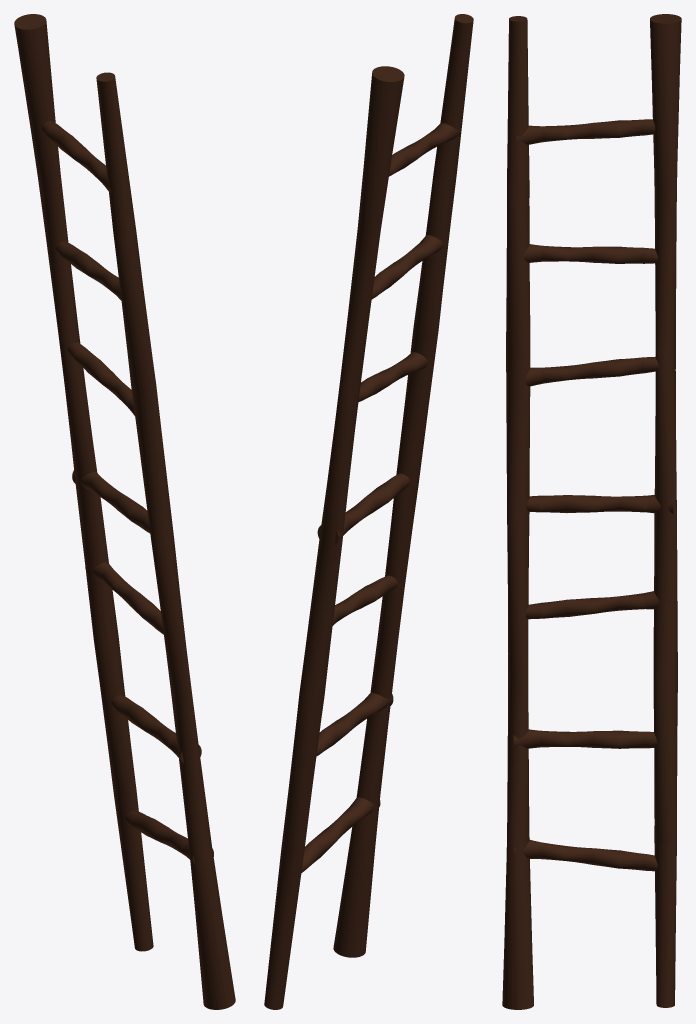
The model's file is Escalera.fbx.
3 renders of one model, left to right at view 1: azimuth 30°, elevation 25°; view 2: azimuth 150°, elevation 25°; view 3: azimuth 270°, elevation 25°, orthographic. The views are drawn at different scales.
Parts seen in each view (by area): view 1: Escalera; view 2: Escalera; view 3: Escalera.
Boxes of the visible parts, x1,y1,x2,y2 form: Escalera: (14,14,235,1009); Escalera: (264,14,473,1009); Escalera: (502,14,681,1009).
Bounding box in the file's own units: 89.43 × 577 × 100.
